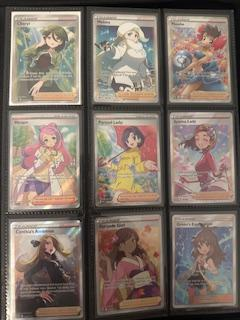card: (7, 218, 85, 320), (92, 216, 167, 319), (8, 110, 82, 212), (8, 9, 84, 108), (91, 109, 165, 208), (170, 212, 240, 312), (89, 10, 161, 106), (166, 11, 235, 106), (168, 112, 237, 206)
